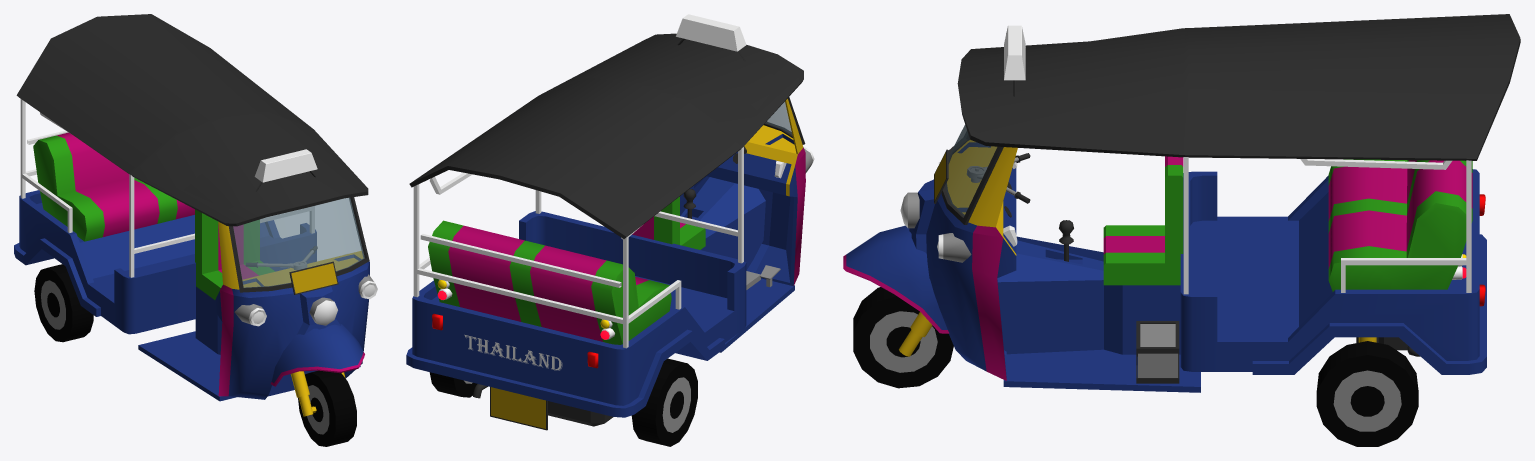
The model's file is TUK TUK.FBX.
3 views of the same model, side by side, from view 1: azimuth 30°, elevation 25°; view 2: azimuth 150°, elevation 25°; view 3: azimuth 270°, elevation 25° (orthographic). The views are drawn at different scales.
Parts seen in each view (by area): view 1: tuk tuk _Taxi_Blue, Taxi_Blue_Wheel_F, Taxi_Blue_Wheel_FL; view 2: tuk tuk _Taxi_Blue, Taxi_Blue_Wheel_FL, Taxi_Blue_Wheel_FR; view 3: tuk tuk _Taxi_Blue, Taxi_Blue_Wheel_FR, Taxi_Blue_Wheel_F.
Part boxes in pixels (<box>): tuk tuk _Taxi_Blue: <box>14,14,377,416</box>; Taxi_Blue_Wheel_F: <box>298,370,356,446</box>; Taxi_Blue_Wheel_FL: <box>34,264,93,342</box>; tuk tuk _Taxi_Blue: <box>406,14,814,430</box>; Taxi_Blue_Wheel_FL: <box>631,358,697,446</box>; Taxi_Blue_Wheel_FR: <box>429,372,477,397</box>; tuk tuk _Taxi_Blue: <box>843,14,1520,392</box>; Taxi_Blue_Wheel_FR: <box>1316,341,1418,446</box>; Taxi_Blue_Wheel_F: <box>853,287,953,388</box>.
Bounding box in the file's own units: 1.43 × 1.74 × 3.11.
